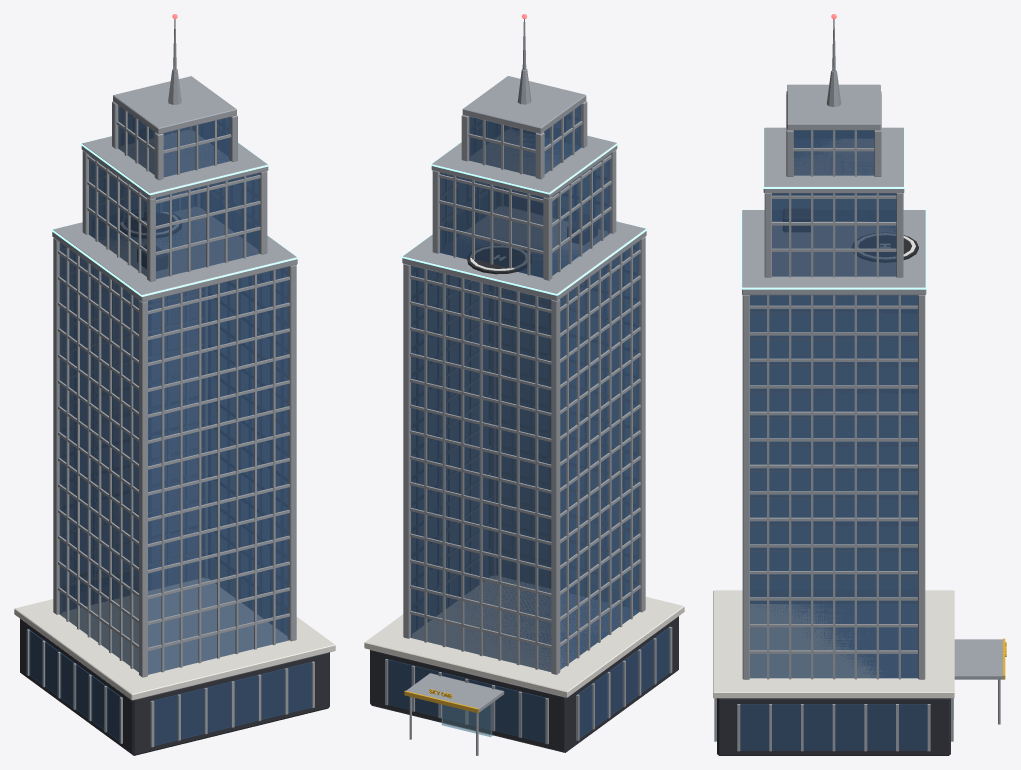
Rendered from GlassTower.fbx.
3 views of the same model, side by side, from view 1: azimuth 30°, elevation 25°; view 2: azimuth 150°, elevation 25°; view 3: azimuth 270°, elevation 25° (orthographic). The views are drawn at different scales.
Parts seen in each view (by area): view 1: GlassTower_GlassDark, GlassTower_Metal, GlassTower_Marble, GlassTower_MarbleDark, GlassTower_NeonCyan; view 2: GlassTower_GlassDark, GlassTower_Metal, GlassTower_Marble, GlassTower_MarbleDark, GlassTower_NeonCyan, GlassTower_Glass, GlassTower_Charcoal; view 3: GlassTower_GlassDark, GlassTower_Metal, GlassTower_Marble, GlassTower_MarbleDark, GlassTower_NeonCyan, GlassTower_Charcoal.
Boxes of the visible parts, left/top/right/bottom form: GlassTower_GlassDark: left=29, top=105, right=312, bottom=745; GlassTower_Metal: left=26, top=19, right=314, bottom=747; GlassTower_Marble: left=14, top=578, right=335, bottom=700; GlassTower_MarbleDark: left=20, top=619, right=329, bottom=755; GlassTower_NeonCyan: left=51, top=136, right=298, bottom=296; GlassTower_GlassDark: left=387, top=105, right=669, bottom=742; GlassTower_Metal: left=385, top=19, right=672, bottom=755; GlassTower_Marble: left=364, top=576, right=684, bottom=697; GlassTower_MarbleDark: left=370, top=616, right=678, bottom=752; GlassTower_NeonCyan: left=401, top=135, right=647, bottom=295; GlassTower_Glass: left=441, top=704, right=492, bottom=737; GlassTower_Charcoal: left=467, top=245, right=531, bottom=274; GlassTower_GlassDark: left=740, top=130, right=927, bottom=750; GlassTower_Metal: left=714, top=19, right=1004, bottom=751; GlassTower_Marble: left=713, top=590, right=954, bottom=698; GlassTower_MarbleDark: left=717, top=698, right=950, bottom=755; GlassTower_NeonCyan: left=741, top=127, right=926, bottom=289; GlassTower_Charcoal: left=852, top=233, right=918, bottom=262.
Size of the model in its own units: 33 by 105 by 40.1.
